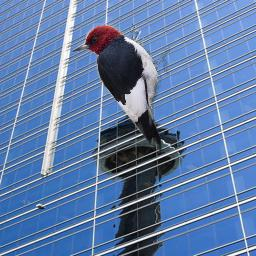Woodpecker: (66, 23, 170, 153)
